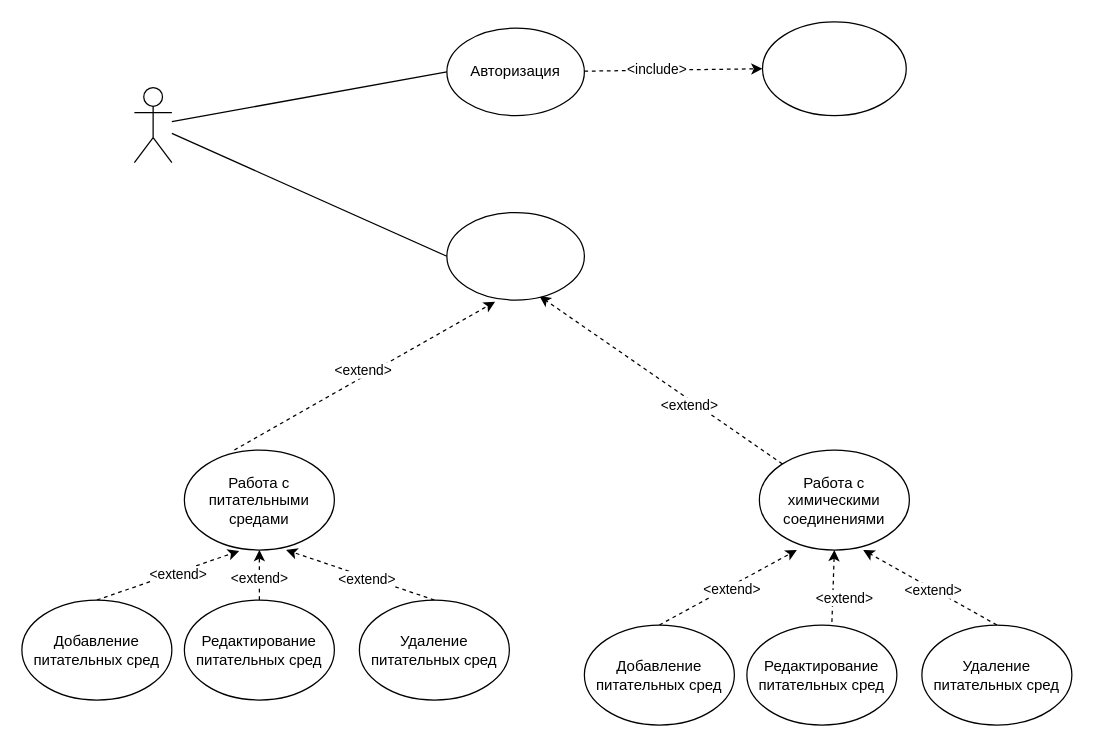
Some shapes in this 1094 by 748 pixel diagram are drawn without their labels. Each missing label, with the centre of its shape:
"Администратор" belongs at (x=152, y=124).
"Ввод логина и пароля" belongs at (x=833, y=68).
"Управление данными информационной системы" belongs at (x=515, y=255).
